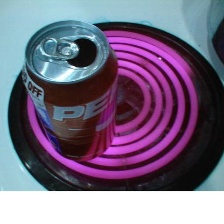can: (18, 14, 124, 165)
